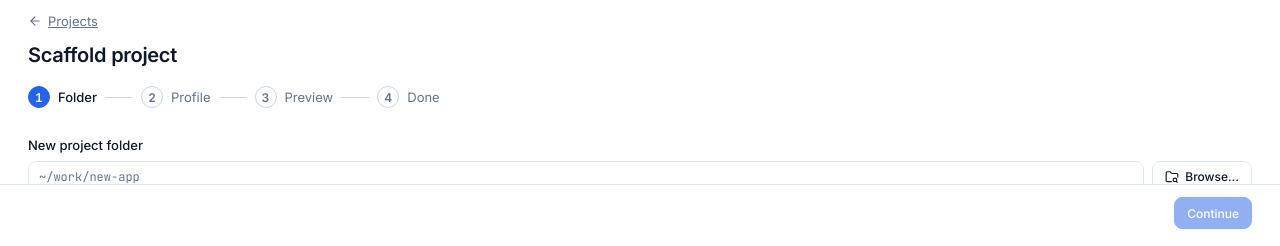
Test: Scaffold flow › shows a profile list failure
Type "/work/app" into the field labelled "New project folder" at (586, 177), box x1=28 y1=161 x2=1144 y2=193
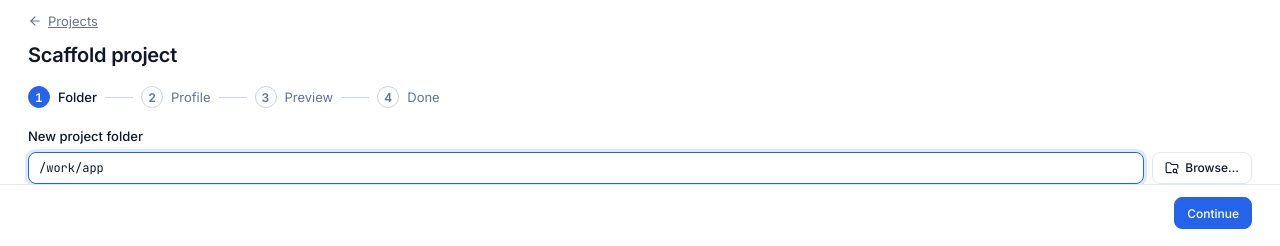
Click the button "Continue" at (1213, 213), box x1=1174 y1=197 x2=1252 y2=229
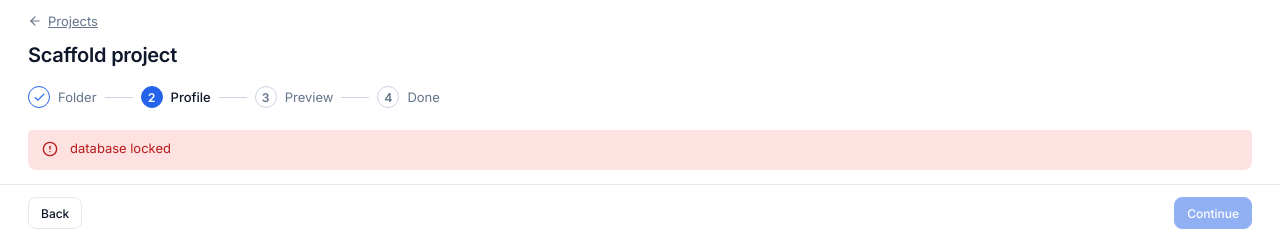
expect the message reads "database locked": met, box x1=70 y1=140 x2=171 y2=156
